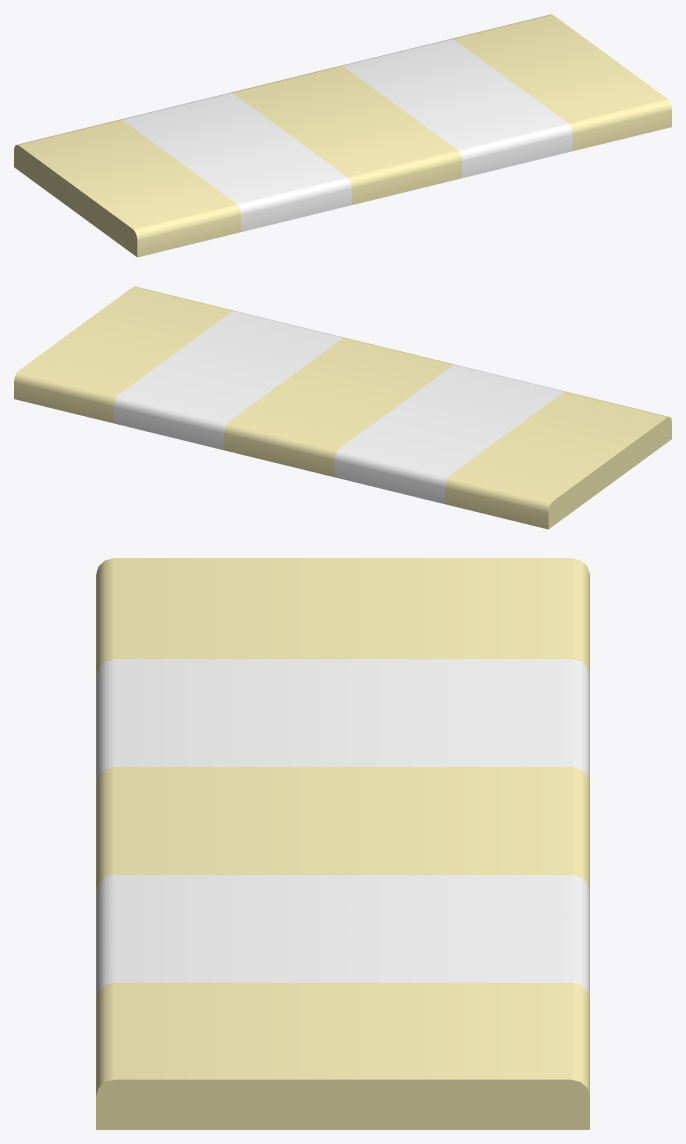
The model's file is RoadStraight2_yellow.fbx.
3 renders of one model, top to bottom at view 1: azimuth 30°, elevation 25°; view 2: azimuth 150°, elevation 25°; view 3: azimuth 270°, elevation 25°, orthographic. The views are drawn at different scales.
Visible parts, largest first — view 1: RoadStraight2_yellow; view 2: RoadStraight2_yellow; view 3: RoadStraight2_yellow.
Boxes of the visible parts, box(x1,y1,x2,y2) form: RoadStraight2_yellow: box(14, 14, 671, 257); RoadStraight2_yellow: box(14, 286, 671, 529); RoadStraight2_yellow: box(96, 558, 589, 1129).
Bounding box in the file's own units: 750 × 33.61 × 300.
1 material, 1 textured.
